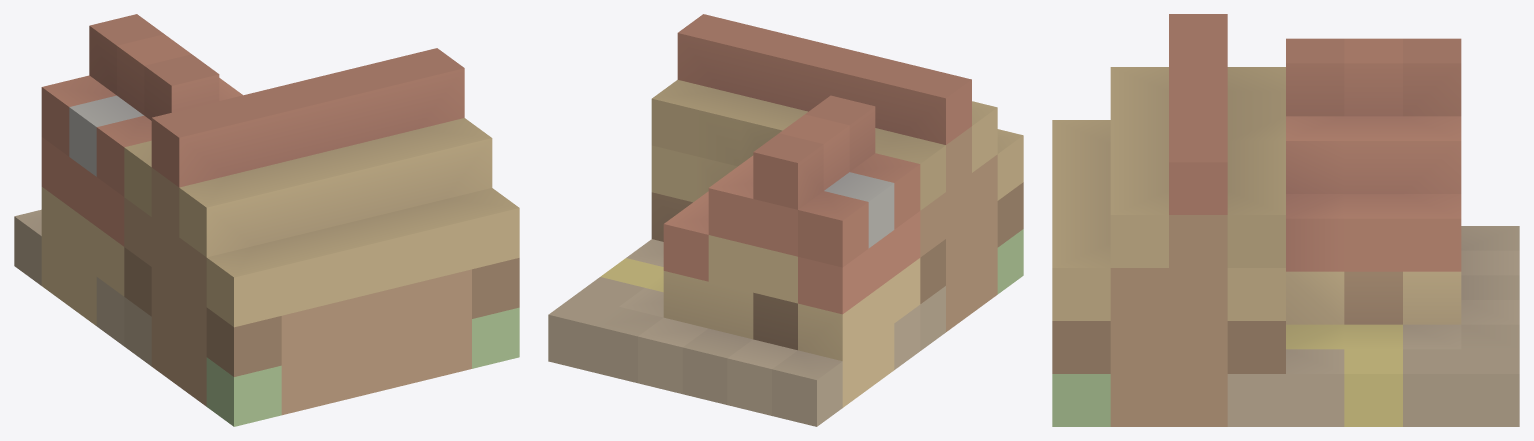
The model's file is wheat_farm.lite.glb.
3 views of the same model, side by side, from view 1: azimuth 30°, elevation 25°; view 2: azimuth 150°, elevation 25°; view 3: azimuth 270°, elevation 25° (orthographic). The views are drawn at different scales.
Visible parts, largest first — view 1: wheat_farm; view 2: wheat_farm; view 3: wheat_farm.
Part boxes in pixels (bbox=[...]): wheat_farm: bbox=[14, 14, 519, 426]; wheat_farm: bbox=[548, 14, 1023, 426]; wheat_farm: bbox=[1052, 14, 1519, 426].
Bounding box in the file's own units: 3 × 2.5 × 4.
